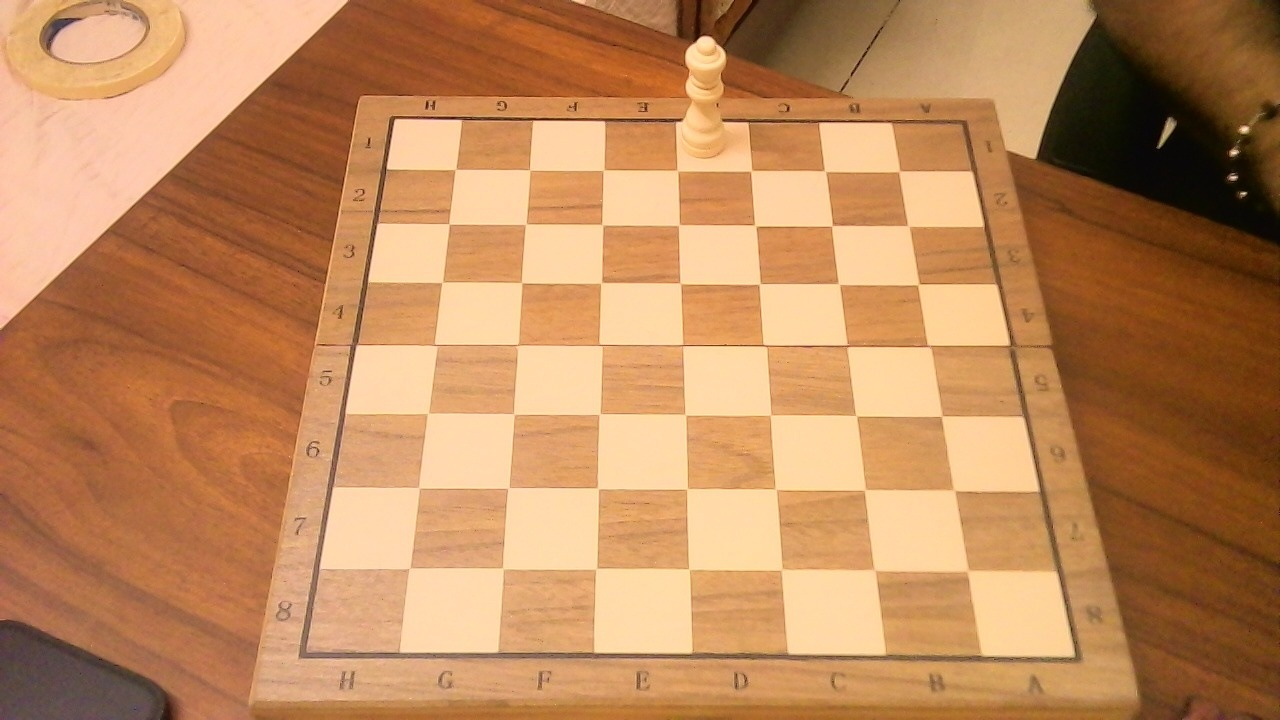Q: (675, 24, 737, 162)
